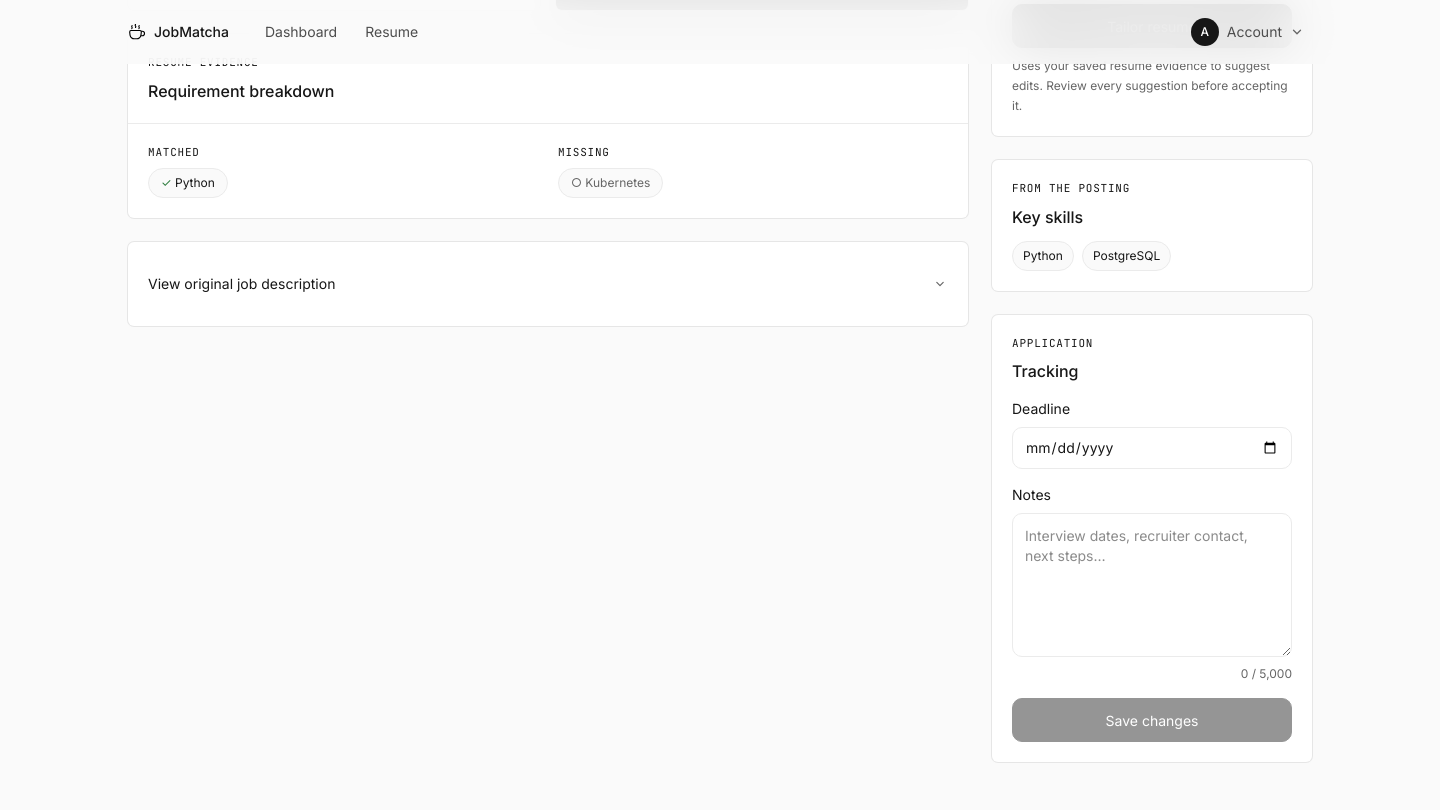
Scenario: JobDetailPage › saves edited tracking details
(page scrolled)
Type "Recruiter call Friday" into the text box labelled "Notes 0 / 5,000" at (1152, 585), box [1012,513,1292,657]
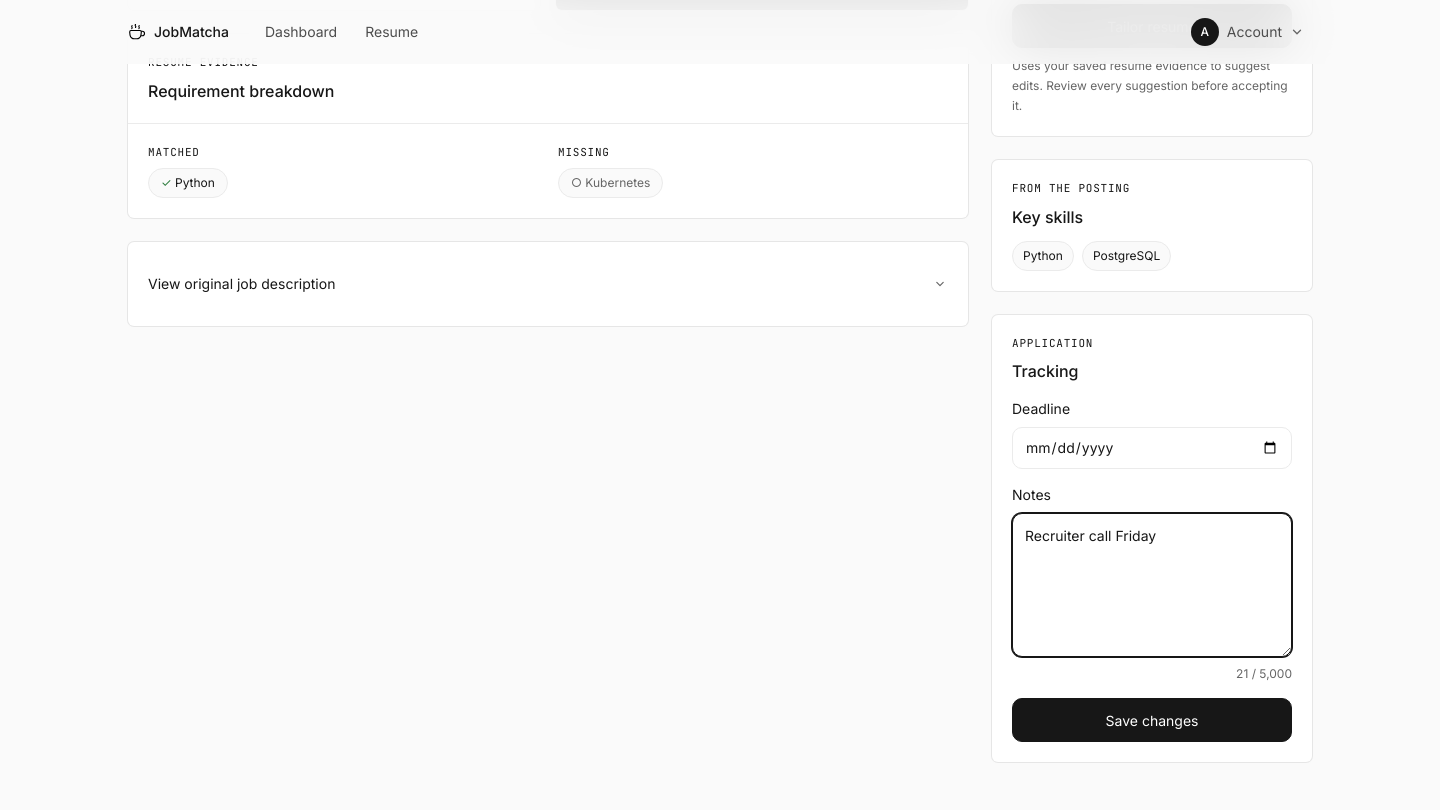
Click the button "Save changes" at (1152, 720), box [1012,698,1292,742]
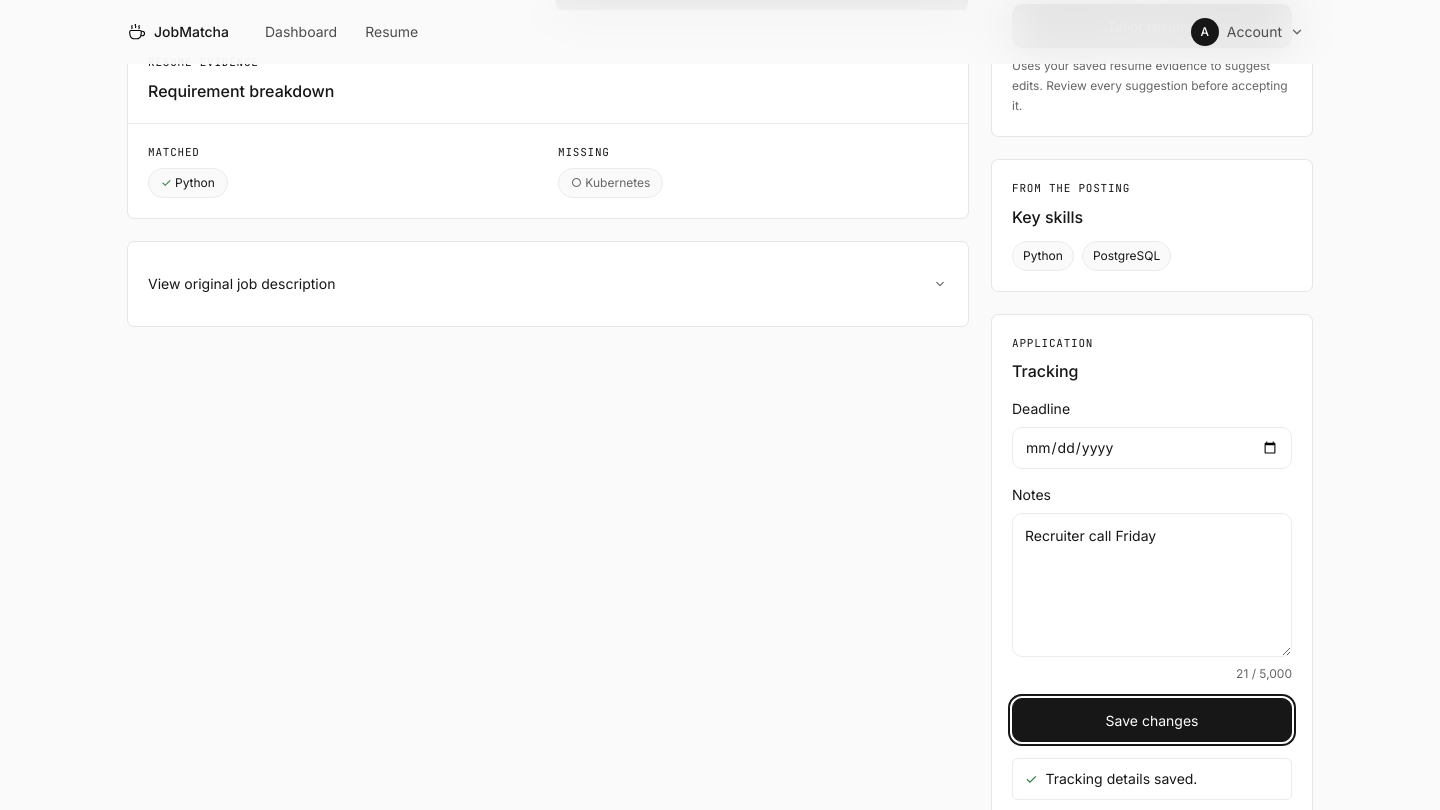
Expected: the text "Tracking details saved." is shown, [1045,770,1197,787]
